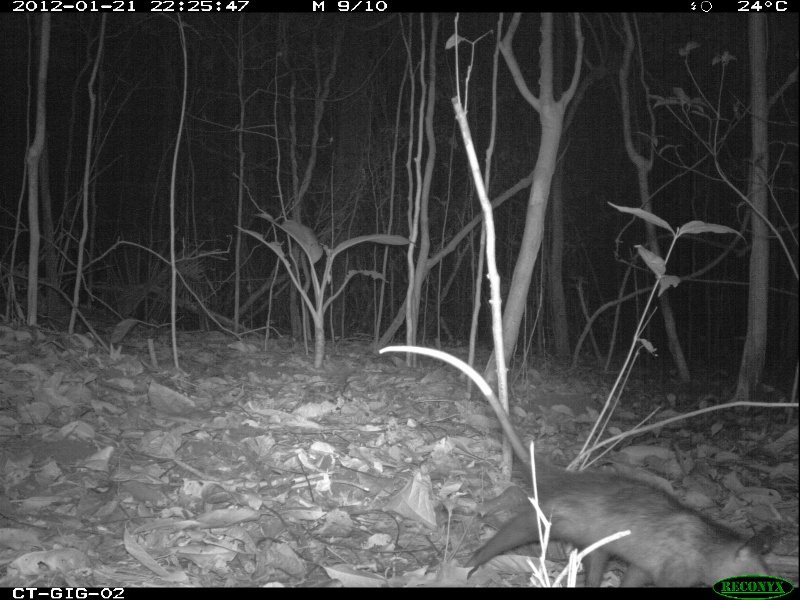opossum: (378, 344, 783, 587)
